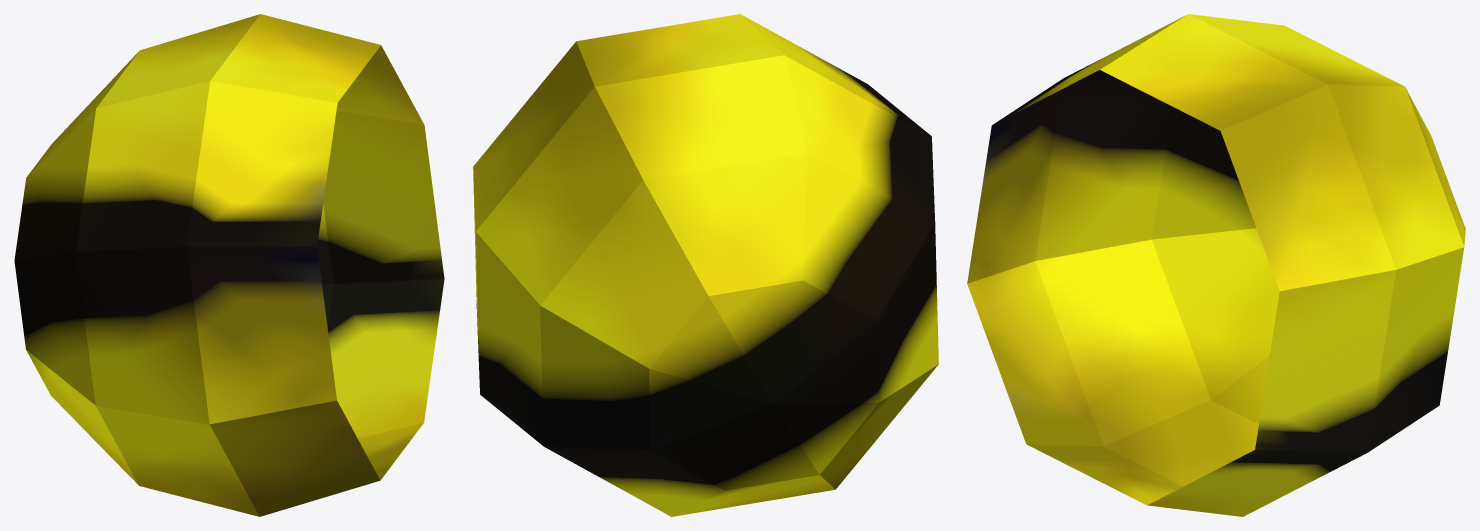
File: SqueezyMonkeyeAnchor.fbx
3 renders of one model, left to right at view 1: azimuth 30°, elevation 25°; view 2: azimuth 150°, elevation 25°; view 3: azimuth 270°, elevation 25°, orthographic. The views are drawn at different scales.
Parts seen in each view (by area): view 1: MonkeyeEyeball_AtlasTarget; view 2: MonkeyeEyeball_AtlasTarget; view 3: MonkeyeEyeball_AtlasTarget.
Boxes of the visible parts, x1,y1,x2,y2 form: MonkeyeEyeball_AtlasTarget: (14, 14, 444, 516); MonkeyeEyeball_AtlasTarget: (473, 14, 938, 516); MonkeyeEyeball_AtlasTarget: (967, 14, 1465, 516).
Bounding box in the file's own units: 4.34 × 4.24 × 4.37.
